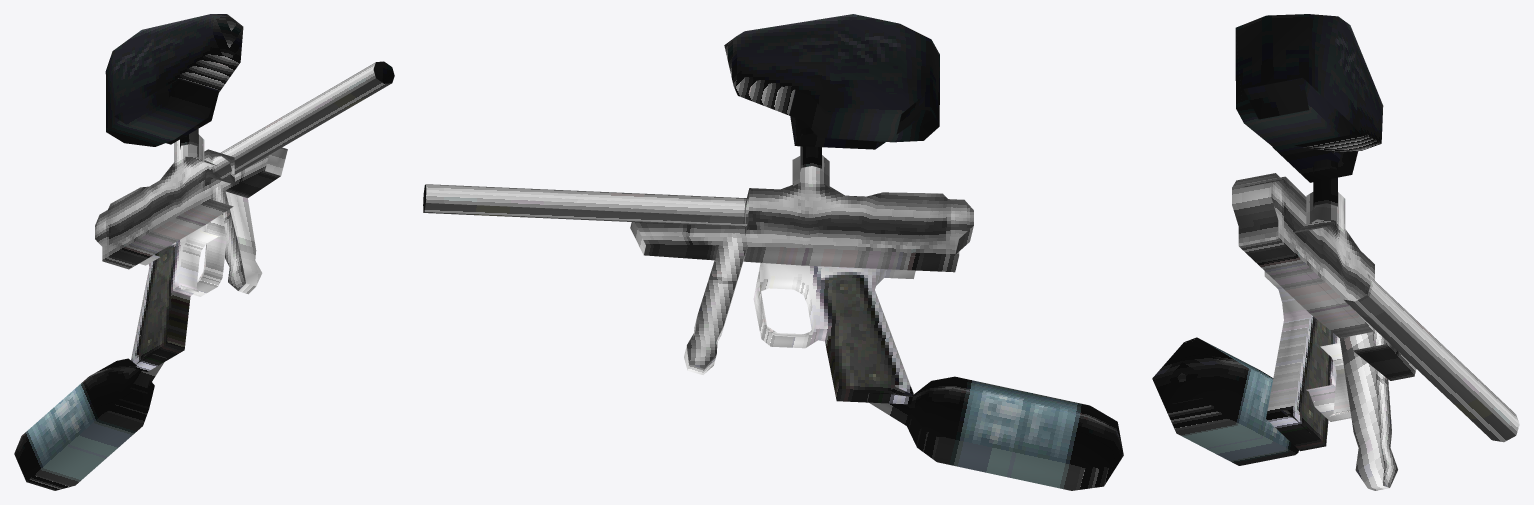
Rendered from ps2_save-icons_greghastingstournamentpaintballmaxd.glb.
The picture shows the model from 3 angles, left to right: view 1: azimuth 30°, elevation 25°; view 2: azimuth 150°, elevation 25°; view 3: azimuth 270°, elevation 25°; orthographic projection. The views are drawn at different scales.
Parts seen in each view (by area): view 1: icon.ico; view 2: icon.ico; view 3: icon.ico.
Boxes of the visible parts, x1,y1,x2,y2 form: icon.ico: (14,14,394,490); icon.ico: (423,14,1123,490); icon.ico: (1152,14,1519,490).
Bounding box in the file's own units: 4.12 × 3.12 × 2.07.
1 material, 1 textured.
